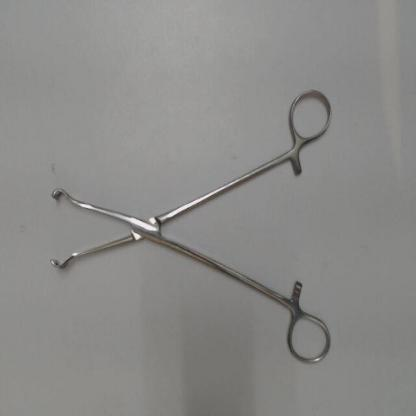8 Babcock Tissue Forceps: (40, 82, 342, 369)
